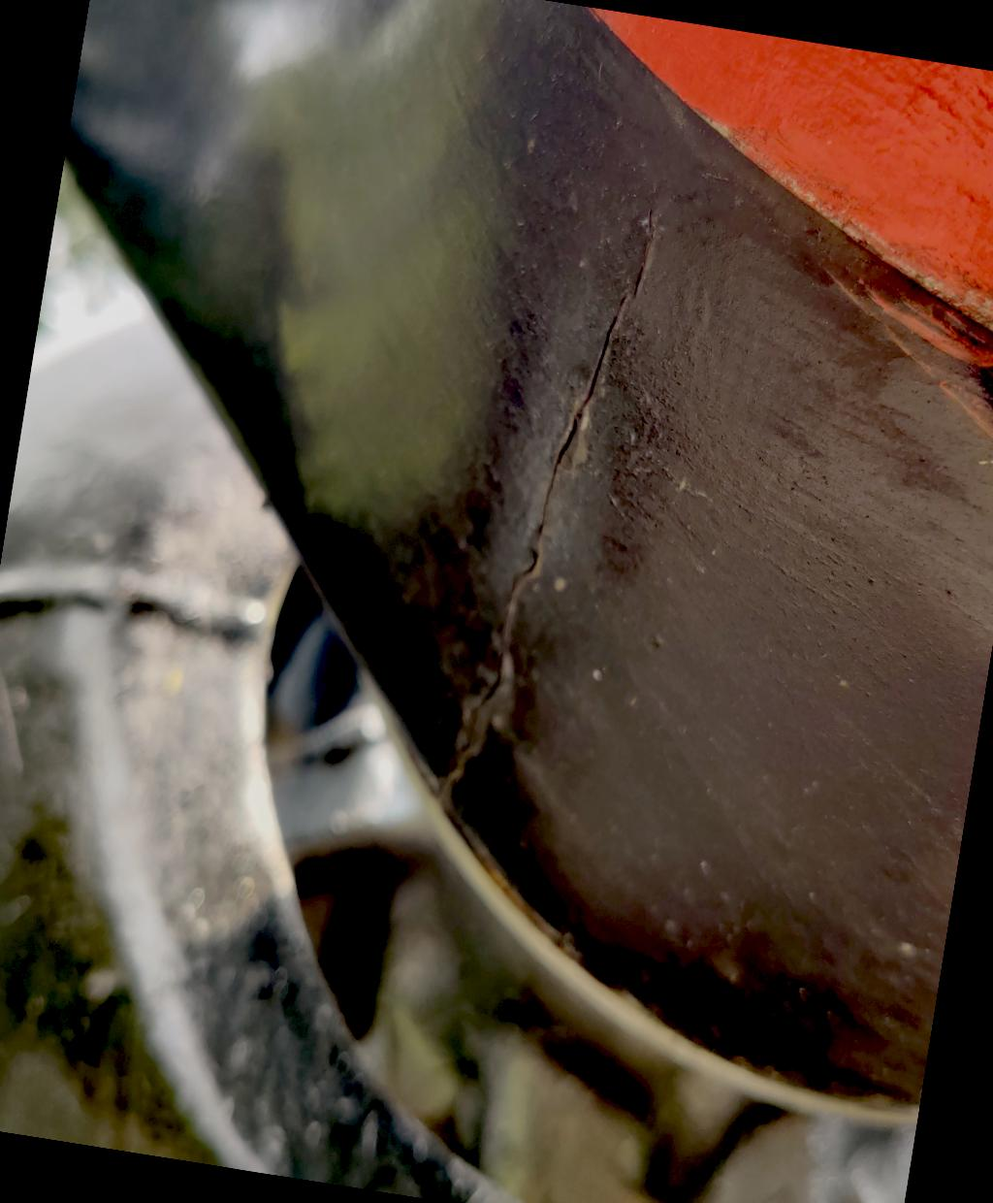crack: (340, 138, 778, 880)
